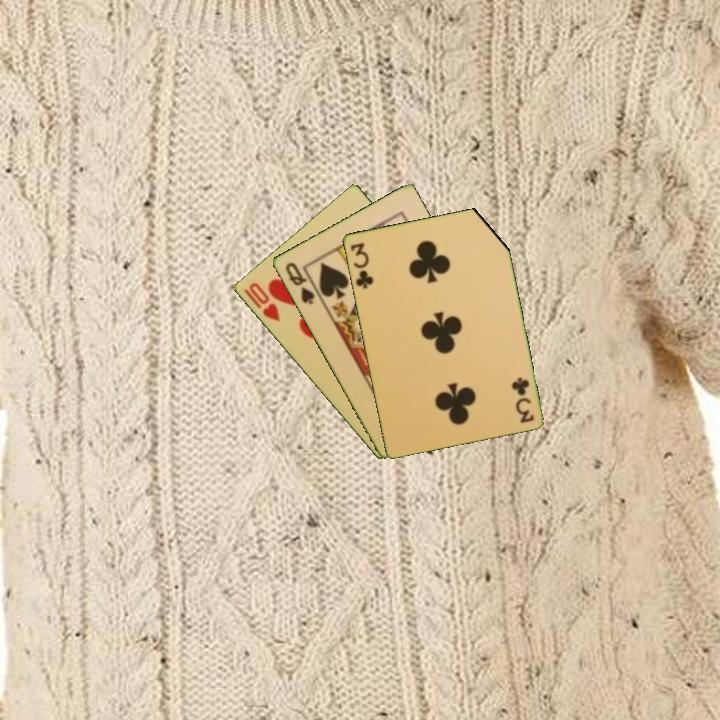10h: (240, 279, 283, 325)
3c: (347, 239, 376, 291), (509, 373, 536, 426)
Qs: (281, 258, 317, 307)
